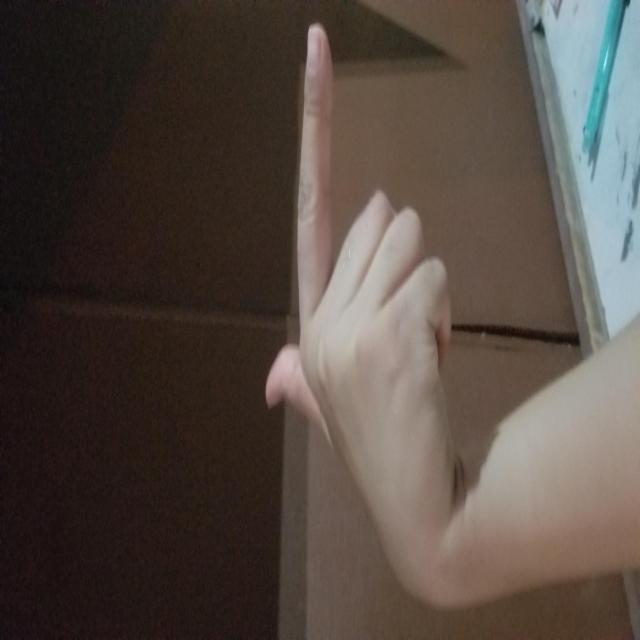G: (68, 264, 622, 453)
